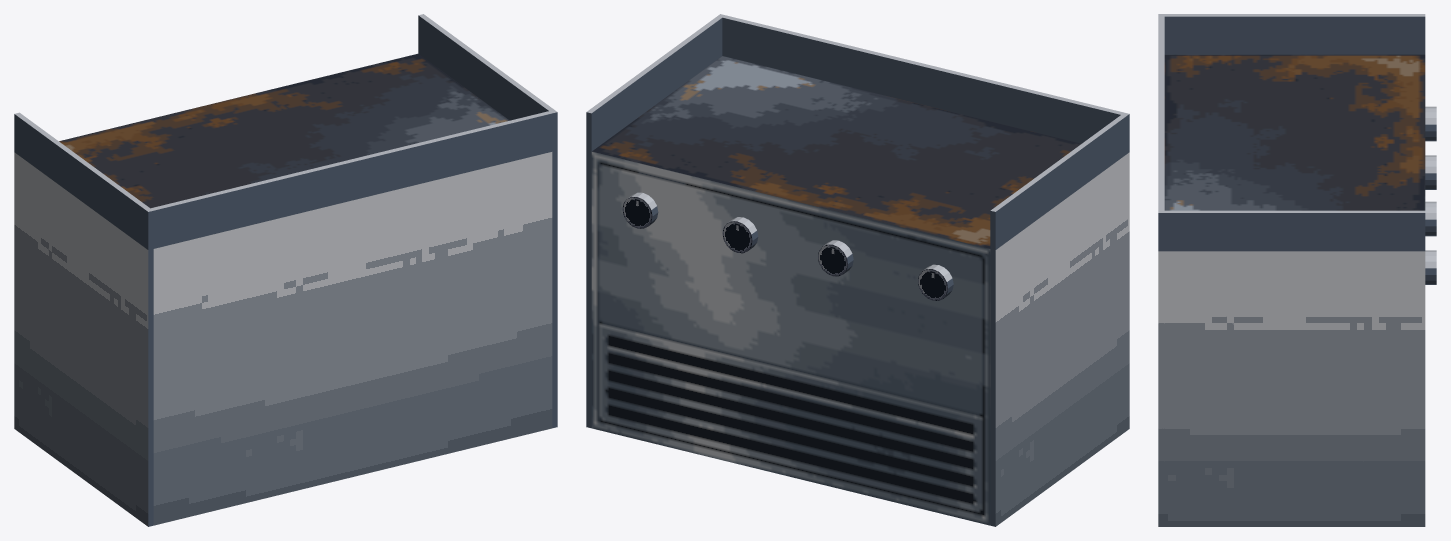
Rendered from grill.fbx.
The picture shows the model from 3 angles, left to right: view 1: azimuth 30°, elevation 25°; view 2: azimuth 150°, elevation 25°; view 3: azimuth 270°, elevation 25°; orthographic projection.
Parts seen in each view (by area): view 1: Cube.003; view 2: Cube.003, Cylinder.006; view 3: Cube.003, Cylinder.006.
Part boxes in pixels (x1,y1,x2,y2): Cube.003: [14, 14, 557, 526]; Cube.003: [586, 14, 1129, 526]; Cylinder.006: [622, 192, 953, 300]; Cube.003: [1158, 14, 1425, 526]; Cylinder.006: [1425, 106, 1436, 284].
Size of the model in its own units: 457 by 336 by 270.
